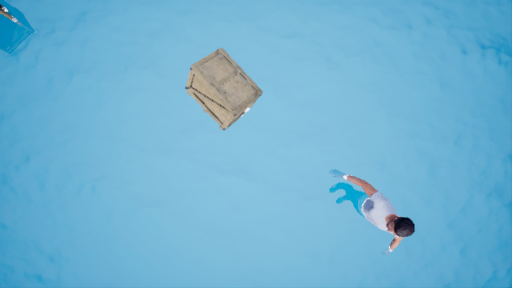person: (338, 170, 418, 254)
